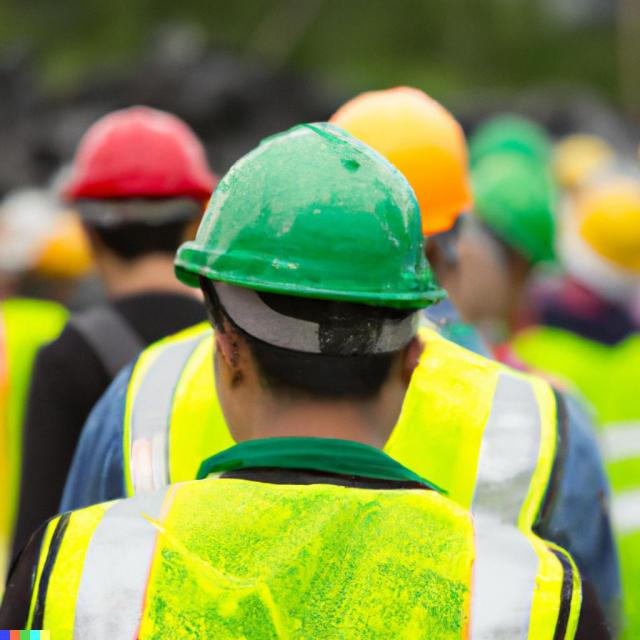Reflective-Jacket: (44, 335, 619, 640), (0, 292, 78, 630)
Safety-Helmet: (174, 120, 454, 308), (311, 80, 477, 238), (56, 99, 223, 213)
